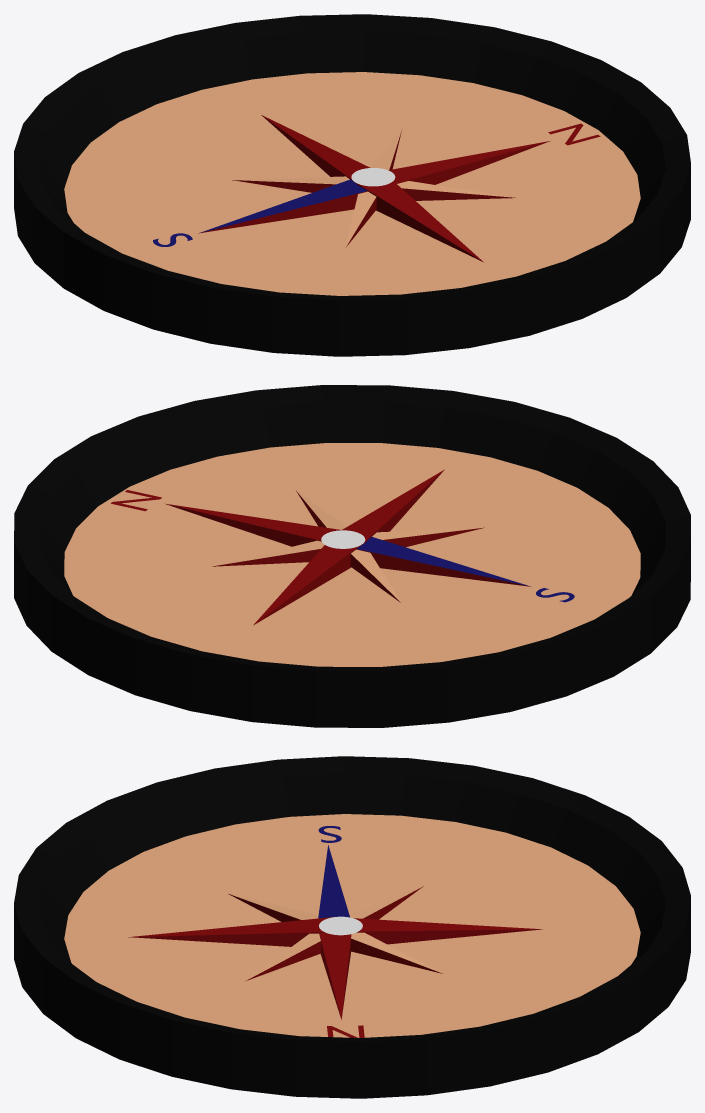
The model's file is Compass.gltf.
The picture shows the model from 3 angles, top to bottom: view 1: azimuth 30°, elevation 25°; view 2: azimuth 150°, elevation 25°; view 3: azimuth 270°, elevation 25°; orthographic projection.
Visible parts, largest first — view 1: Cylinder, Cube.002, Cylinder.001; view 2: Cylinder, Cube.002, Cylinder.001; view 3: Cylinder, Cube.002, Cylinder.001.
Boxes of the visible parts, x1,y1,x2,y2 form: Cylinder: (14, 14, 690, 356); Cube.002: (198, 115, 549, 262); Cylinder.001: (351, 168, 395, 186); Cylinder: (14, 385, 690, 727); Cube.002: (165, 469, 530, 625); Cylinder.001: (321, 530, 365, 548); Cylinder: (14, 756, 690, 1098); Cube.002: (128, 845, 542, 1019); Cylinder.001: (319, 916, 362, 935).
Bounding box in the file's own units: 4.69 × 0.4319 × 4.69.
